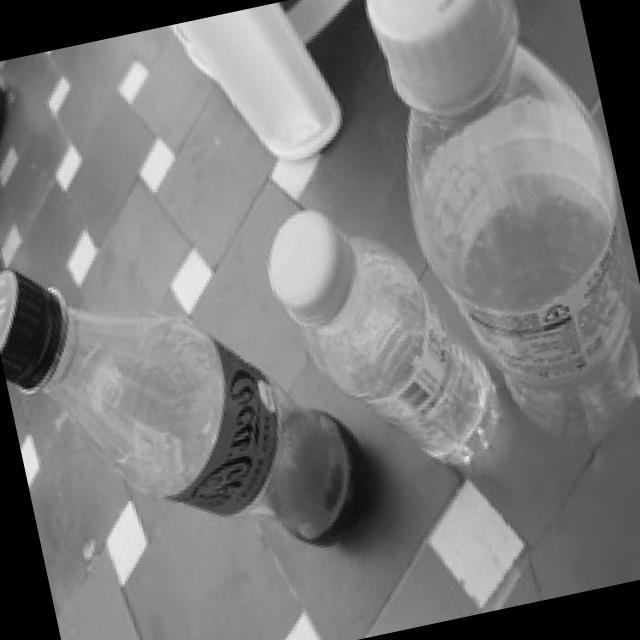good: (0, 168, 377, 620), (368, 0, 640, 479), (250, 177, 520, 523)
